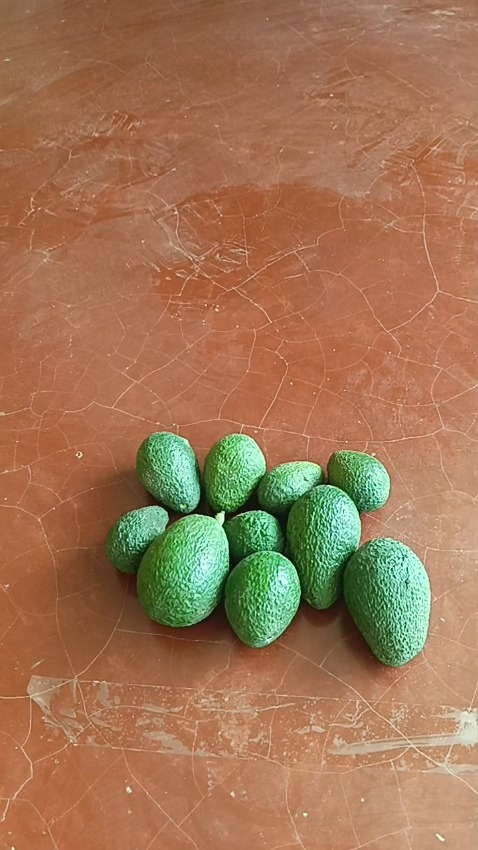Primera: (136, 509, 233, 628), (341, 538, 431, 665), (285, 484, 361, 607)
Segunda: (222, 549, 302, 647)
Tercera: (135, 431, 201, 512), (201, 432, 267, 512), (104, 504, 168, 576), (326, 449, 390, 512), (257, 461, 323, 518)
